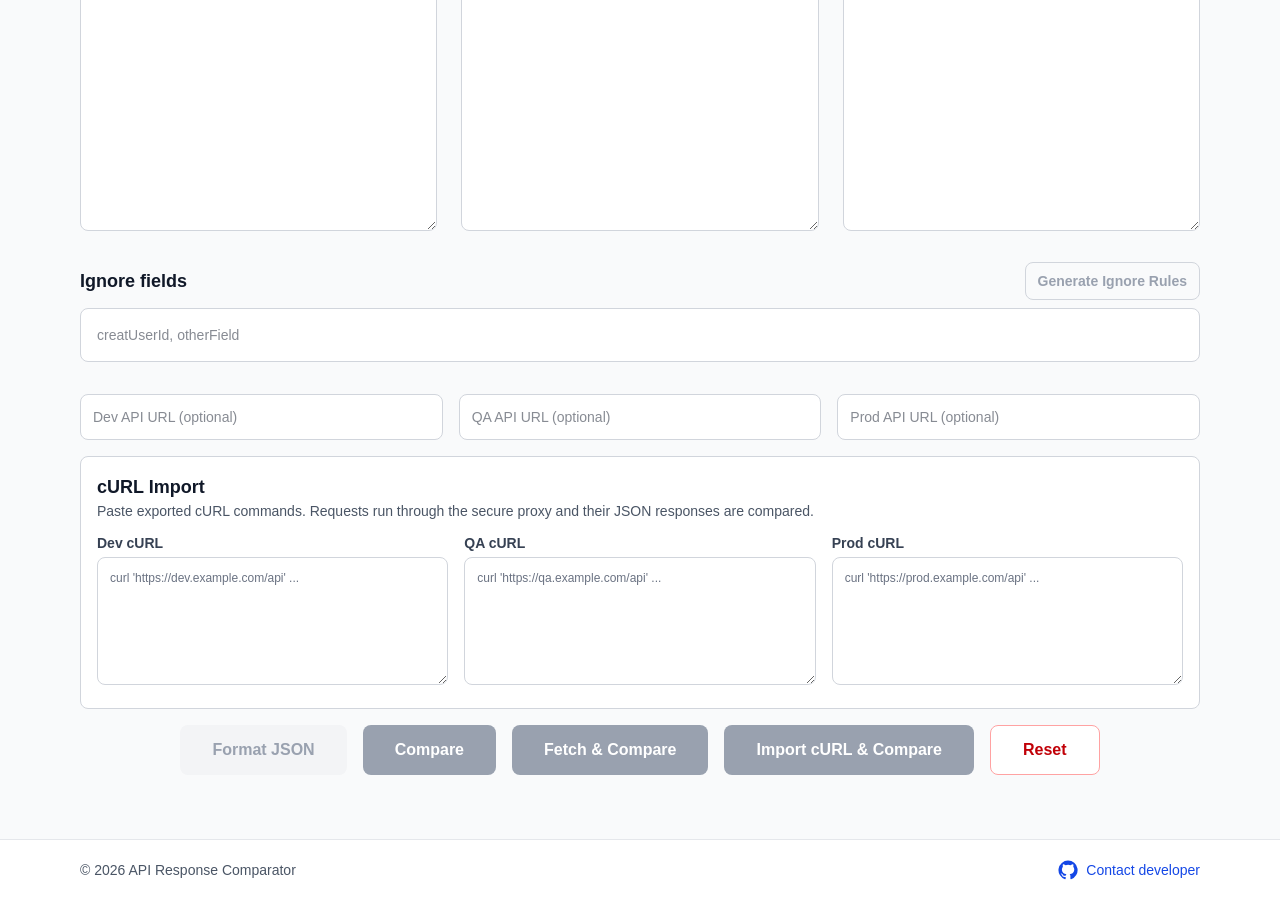
Test: Home › reports invalid cURL syntax before proxy execution
(page scrolled)
Step 1. Type "not-curl https://dev.test" into the text box labelled "Dev cURL" → x=273, y=621, box [97,557,448,685]
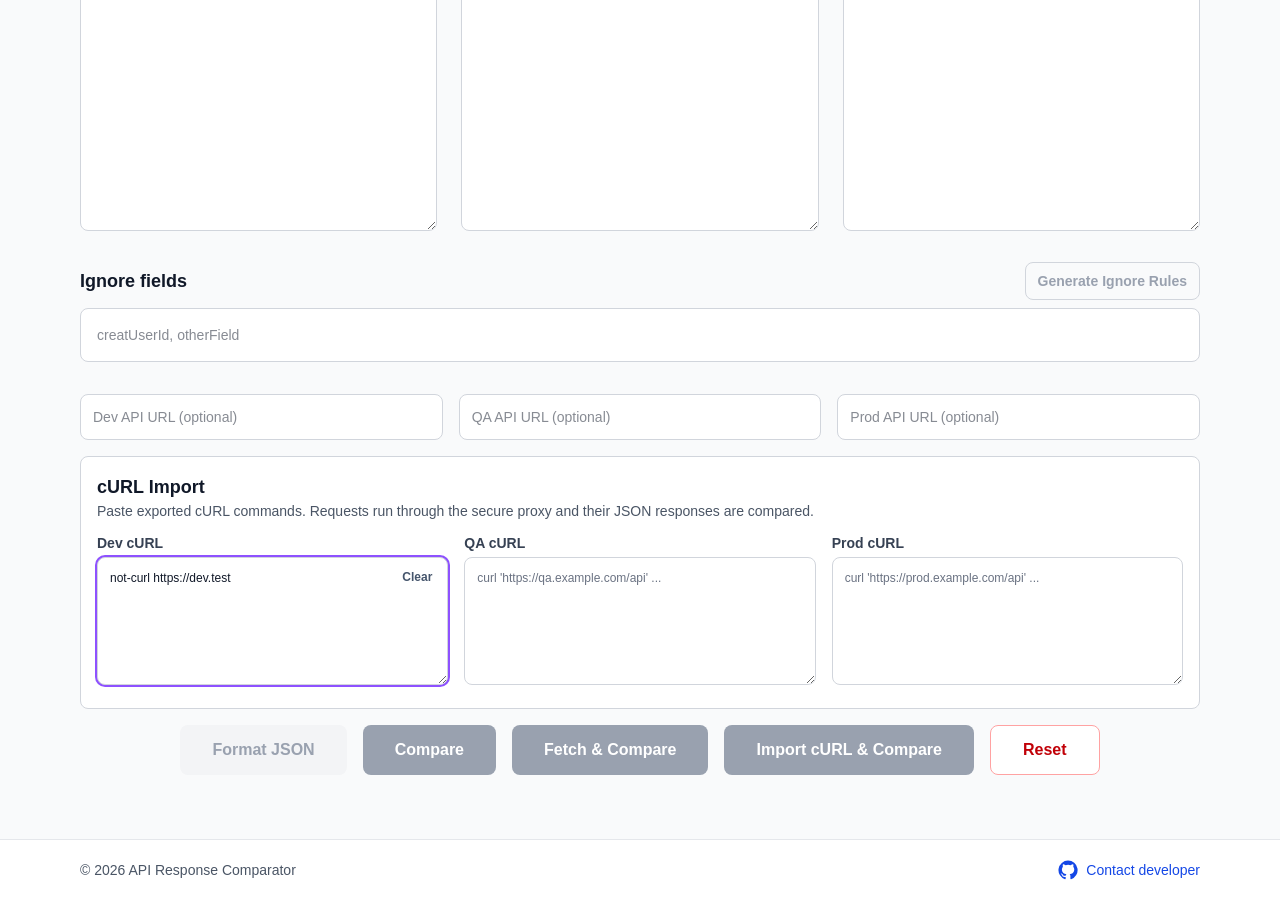
Step 2. Type "curl 'https://qa.test'" into the text box labelled "QA cURL" → x=640, y=621, box [464,557,816,685]
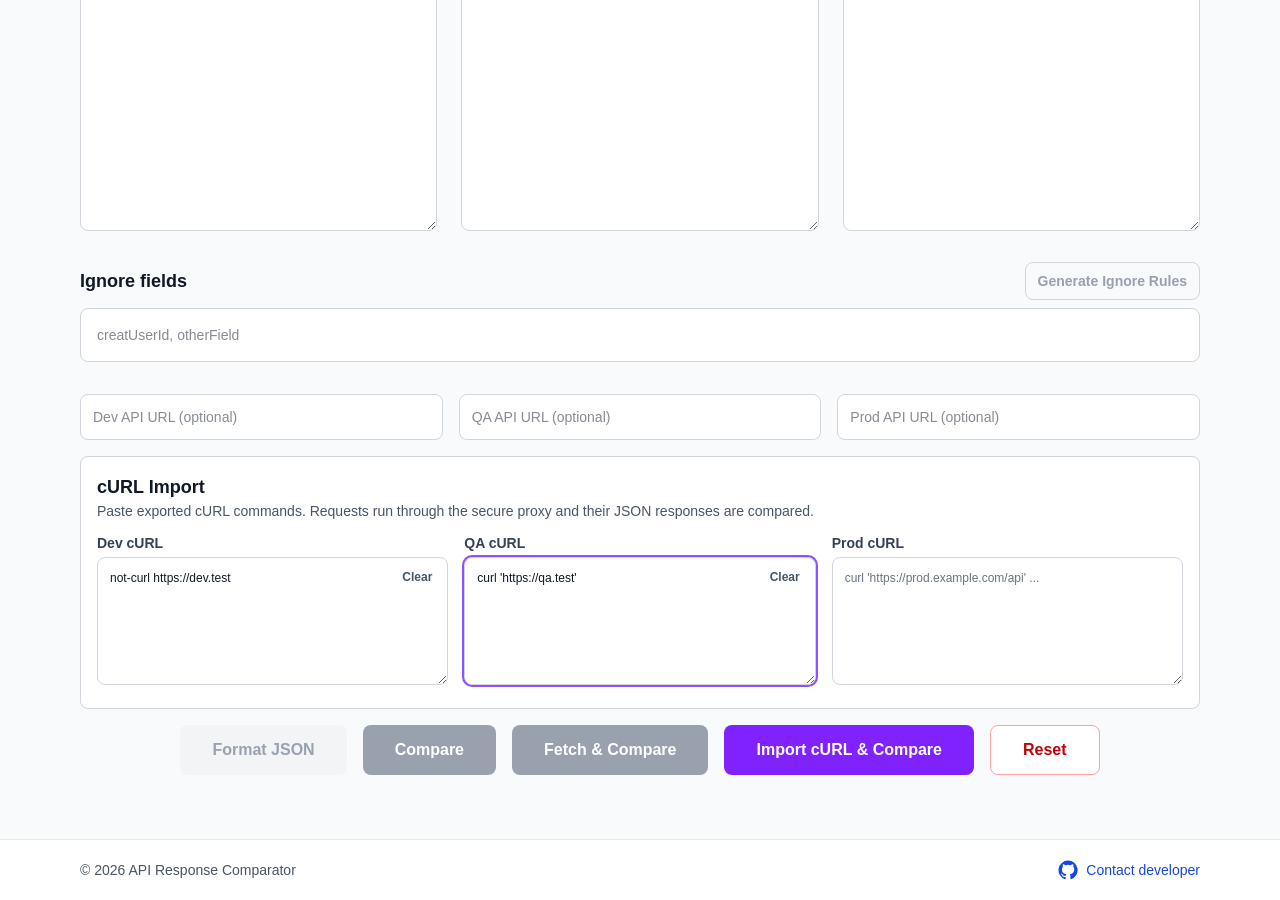
Step 3. Click the button "Import cURL & Compare" → x=849, y=750, box [724,725,974,775]
(page scrolled)
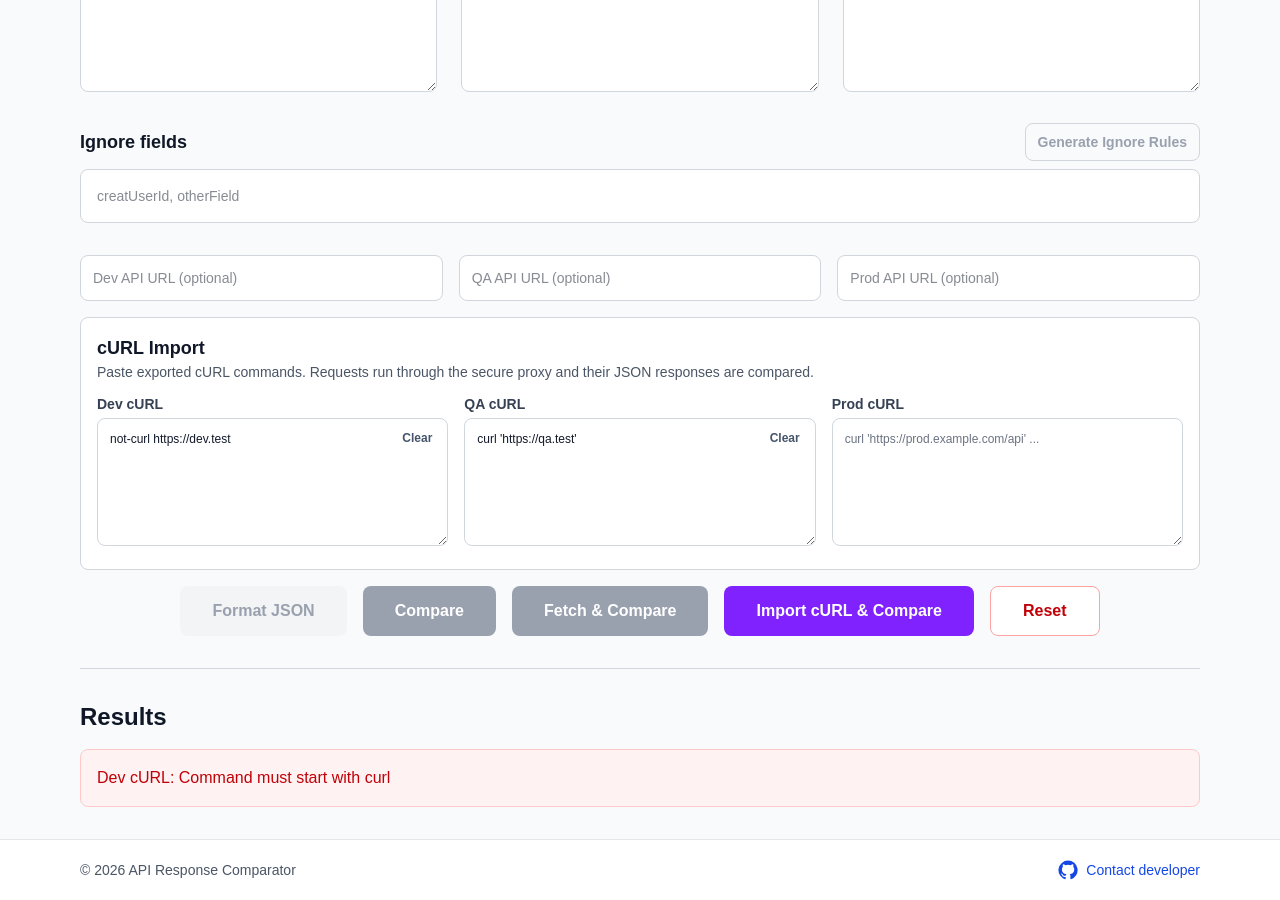
Expected: the text "Dev cURL: Command must start with curl" is shown, [80,749,1200,807]
